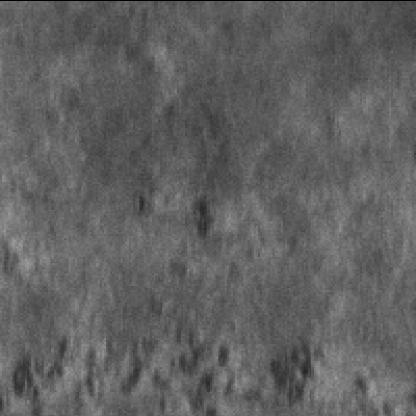rolled-in_scale: (8, 289, 252, 412), (127, 48, 243, 256), (245, 328, 404, 414)
